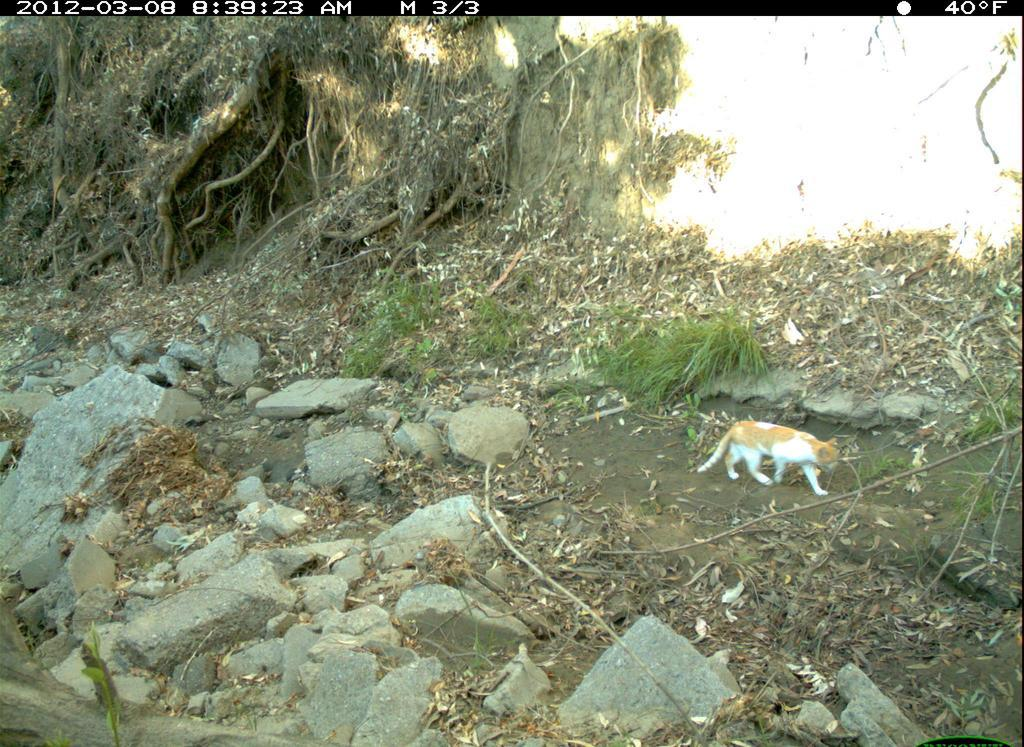cat: (694, 406, 857, 513)
